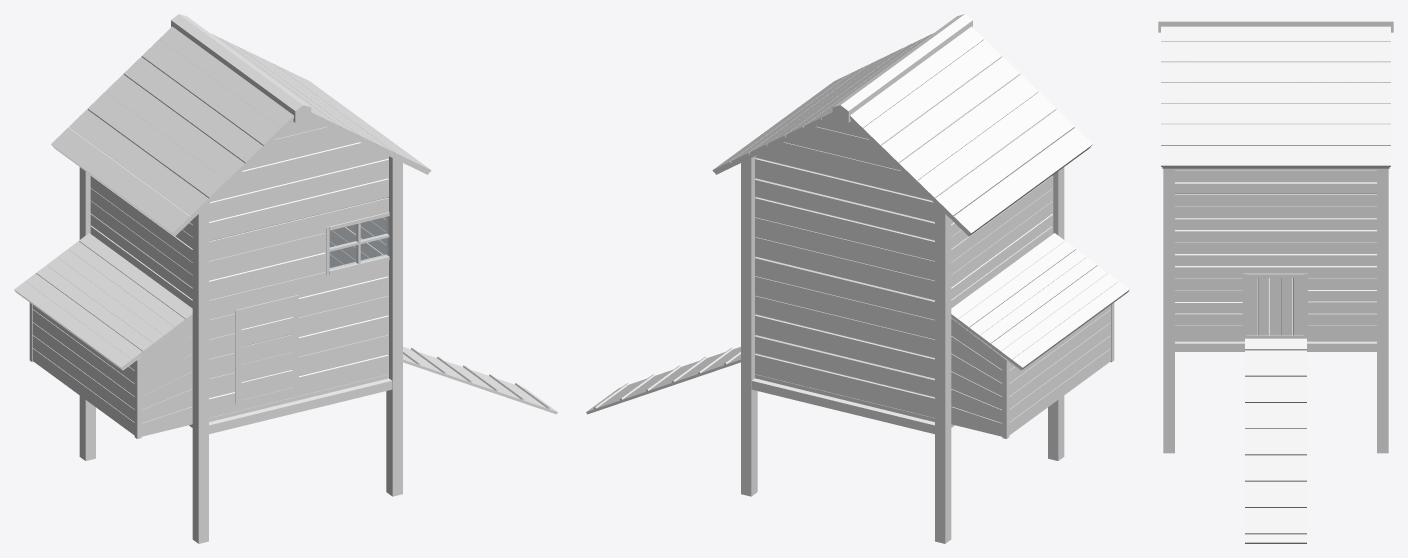
Rendered from Bld_Chicken_Coop_01.glb.
3 renders of one model, left to right at view 1: azimuth 30°, elevation 25°; view 2: azimuth 150°, elevation 25°; view 3: azimuth 270°, elevation 25°, orthographic. The views are drawn at different scales.
Parts seen in each view (by area): view 1: Bld_Chicken_Coop_01, Bld_Chicken_Coop_Door_Left_01, Bld_Chicken_Coop_Door_Middle_01, (_ignore)_Bld_Chicken_Coop_Window_01; view 2: Bld_Chicken_Coop_01, Bld_Chicken_Coop_Door_Left_01; view 3: Bld_Chicken_Coop_01, Bld_Chicken_Coop_Door_Right_01.
Part boxes in pixels (left/top/right/bottom): Bld_Chicken_Coop_01: left=29, top=14, right=557, bottom=543; Bld_Chicken_Coop_Door_Left_01: left=14, top=233, right=192, bottom=370; Bld_Chicken_Coop_Door_Middle_01: left=235, top=295, right=298, bottom=404; (_ignore)_Bld_Chicken_Coop_Window_01: left=330, top=216, right=388, bottom=270; Bld_Chicken_Coop_01: left=586, top=14, right=1114, bottom=543; Bld_Chicken_Coop_Door_Left_01: left=951, top=233, right=1129, bottom=370; Bld_Chicken_Coop_01: left=1158, top=14, right=1393, bottom=543; Bld_Chicken_Coop_Door_Right_01: left=1242, top=273, right=1307, bottom=338.
Bounding box in the file's own units: 2.32 × 1.95 × 1.06.
Materials: 2 (1 with a texture image).
